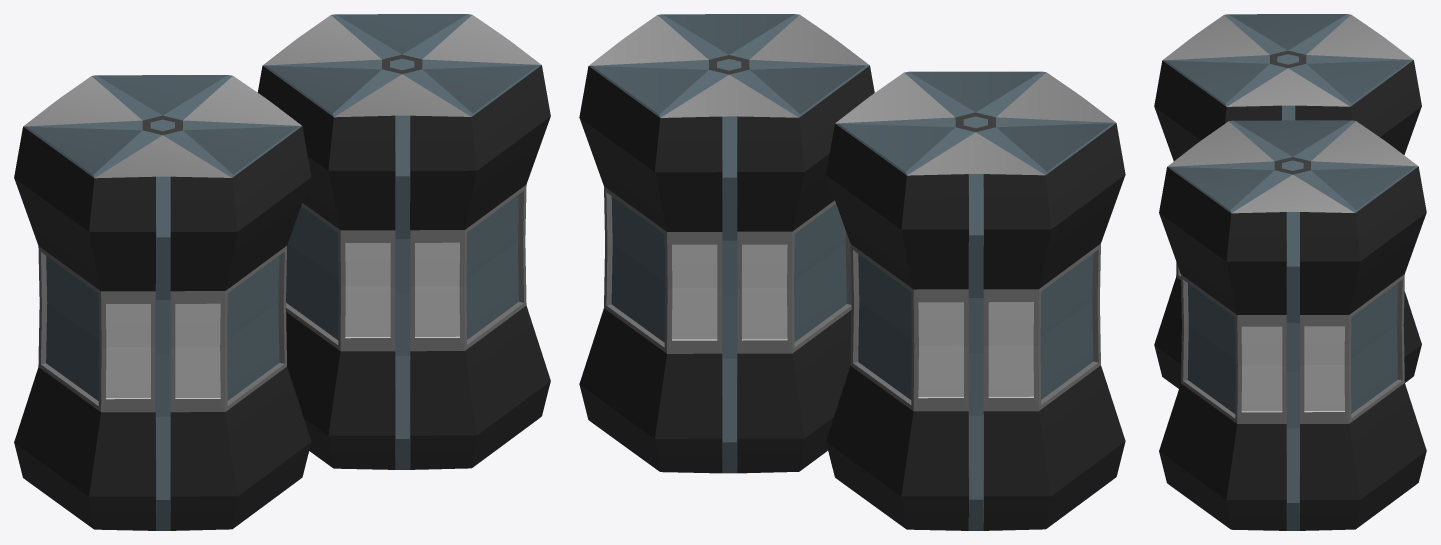
Rendered from Power Cells.fbx.
The picture shows the model from 3 angles, left to right: view 1: azimuth 30°, elevation 25°; view 2: azimuth 150°, elevation 25°; view 3: azimuth 270°, elevation 25°; orthographic projection. The views are drawn at different scales.
Visible parts, largest first — view 1: Power Cells; view 2: Power Cells; view 3: Power Cells.
Boxes of the visible parts, <box> form: Power Cells: <box>14,14,550,530</box>; Power Cells: <box>579,14,1125,530</box>; Power Cells: <box>1154,14,1426,530</box>.
Size of the model in its own units: 211 by 163 by 296.
Materials: 1 (1 with a texture image).
